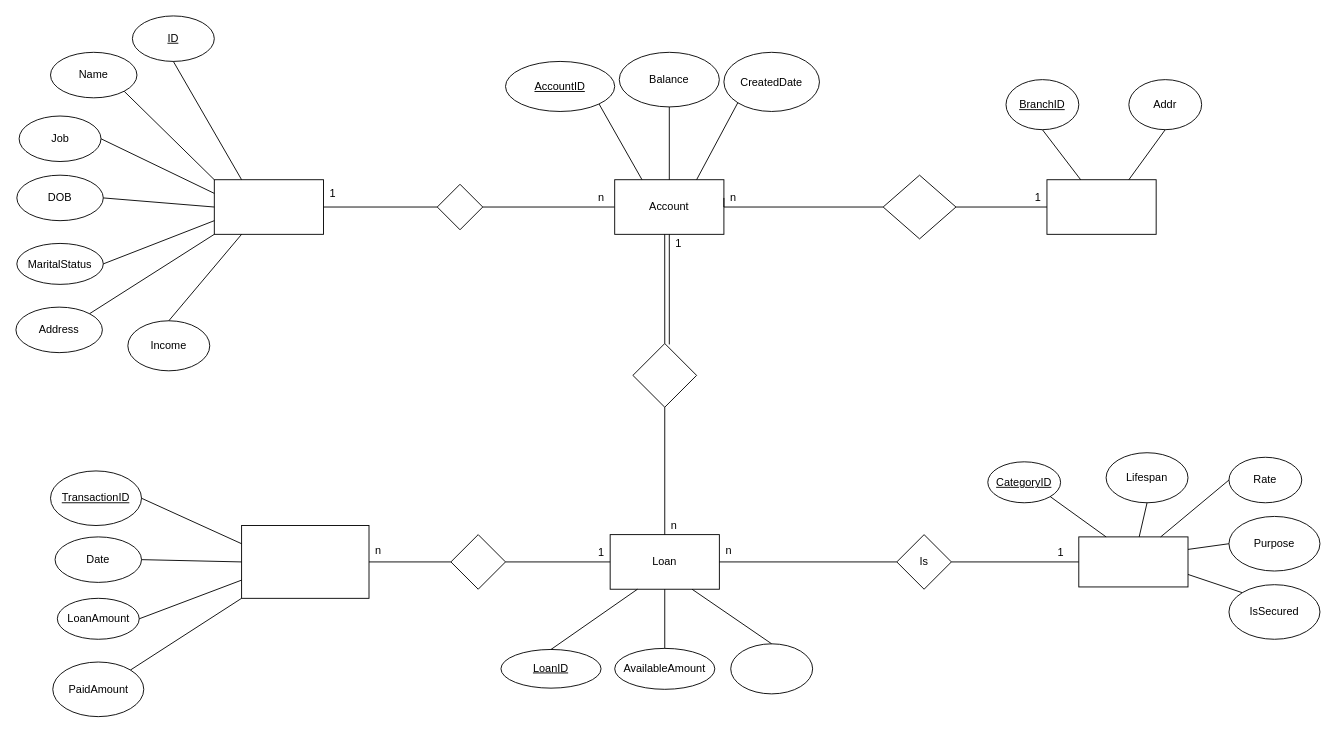
Image size: 1336x733. Some labels were removed from this diagram. The shapes that lost their labels are listed below. From the top down, each one's centre as x and y in pixels, then its label:
At point (268, 206): "Customer".
At point (459, 206): "Has".
At point (919, 206): "Manage".
At point (1101, 206): "Branch".
At point (664, 375): "Link".
At point (305, 561): "LoanTransaction".
At point (478, 561): "Include".
At point (1133, 561): "LoanCategory".
At point (771, 668): "StartDate".
